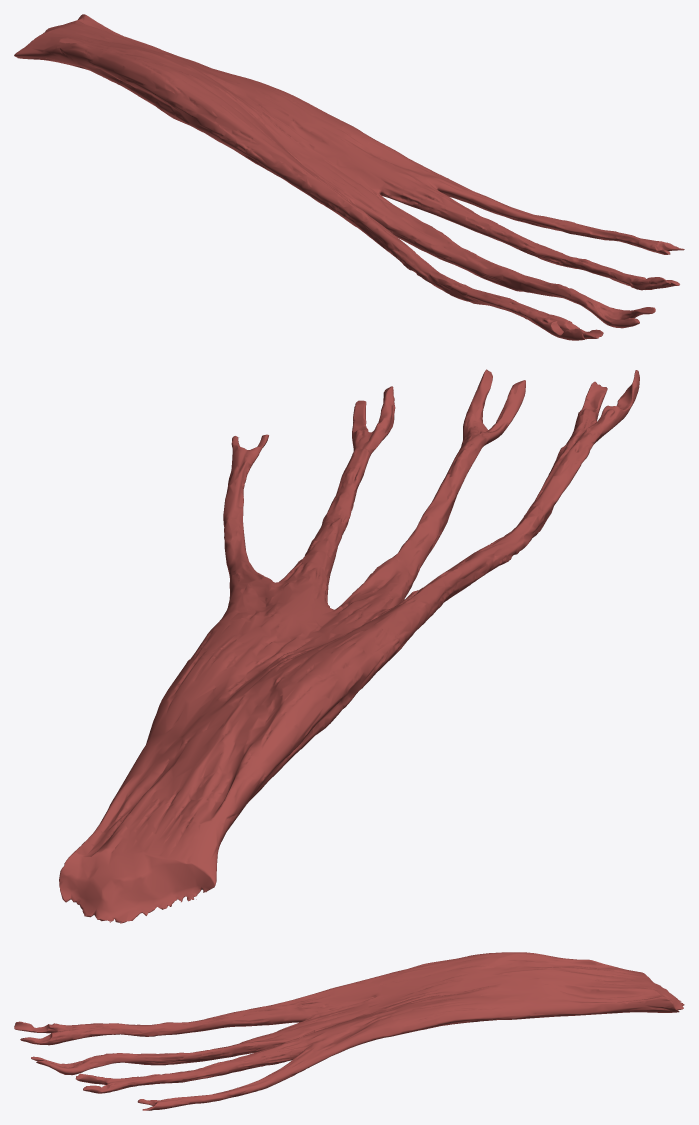
The model's file is FMA37462.glb.
The picture shows the model from 3 angles, top to bottom: view 1: azimuth 30°, elevation 25°; view 2: azimuth 150°, elevation 25°; view 3: azimuth 270°, elevation 25°; orthographic projection. The views are drawn at different scales.
Visible parts, largest first — view 1: FMA37462; view 2: FMA37462; view 3: FMA37462.
Part boxes in pixels (bbox=[...]): FMA37462: bbox=[14, 14, 684, 340]; FMA37462: bbox=[59, 369, 639, 923]; FMA37462: bbox=[14, 952, 684, 1110].
Bounding box in the file's own units: 0.0757 × 0.0195 × 0.1821.
